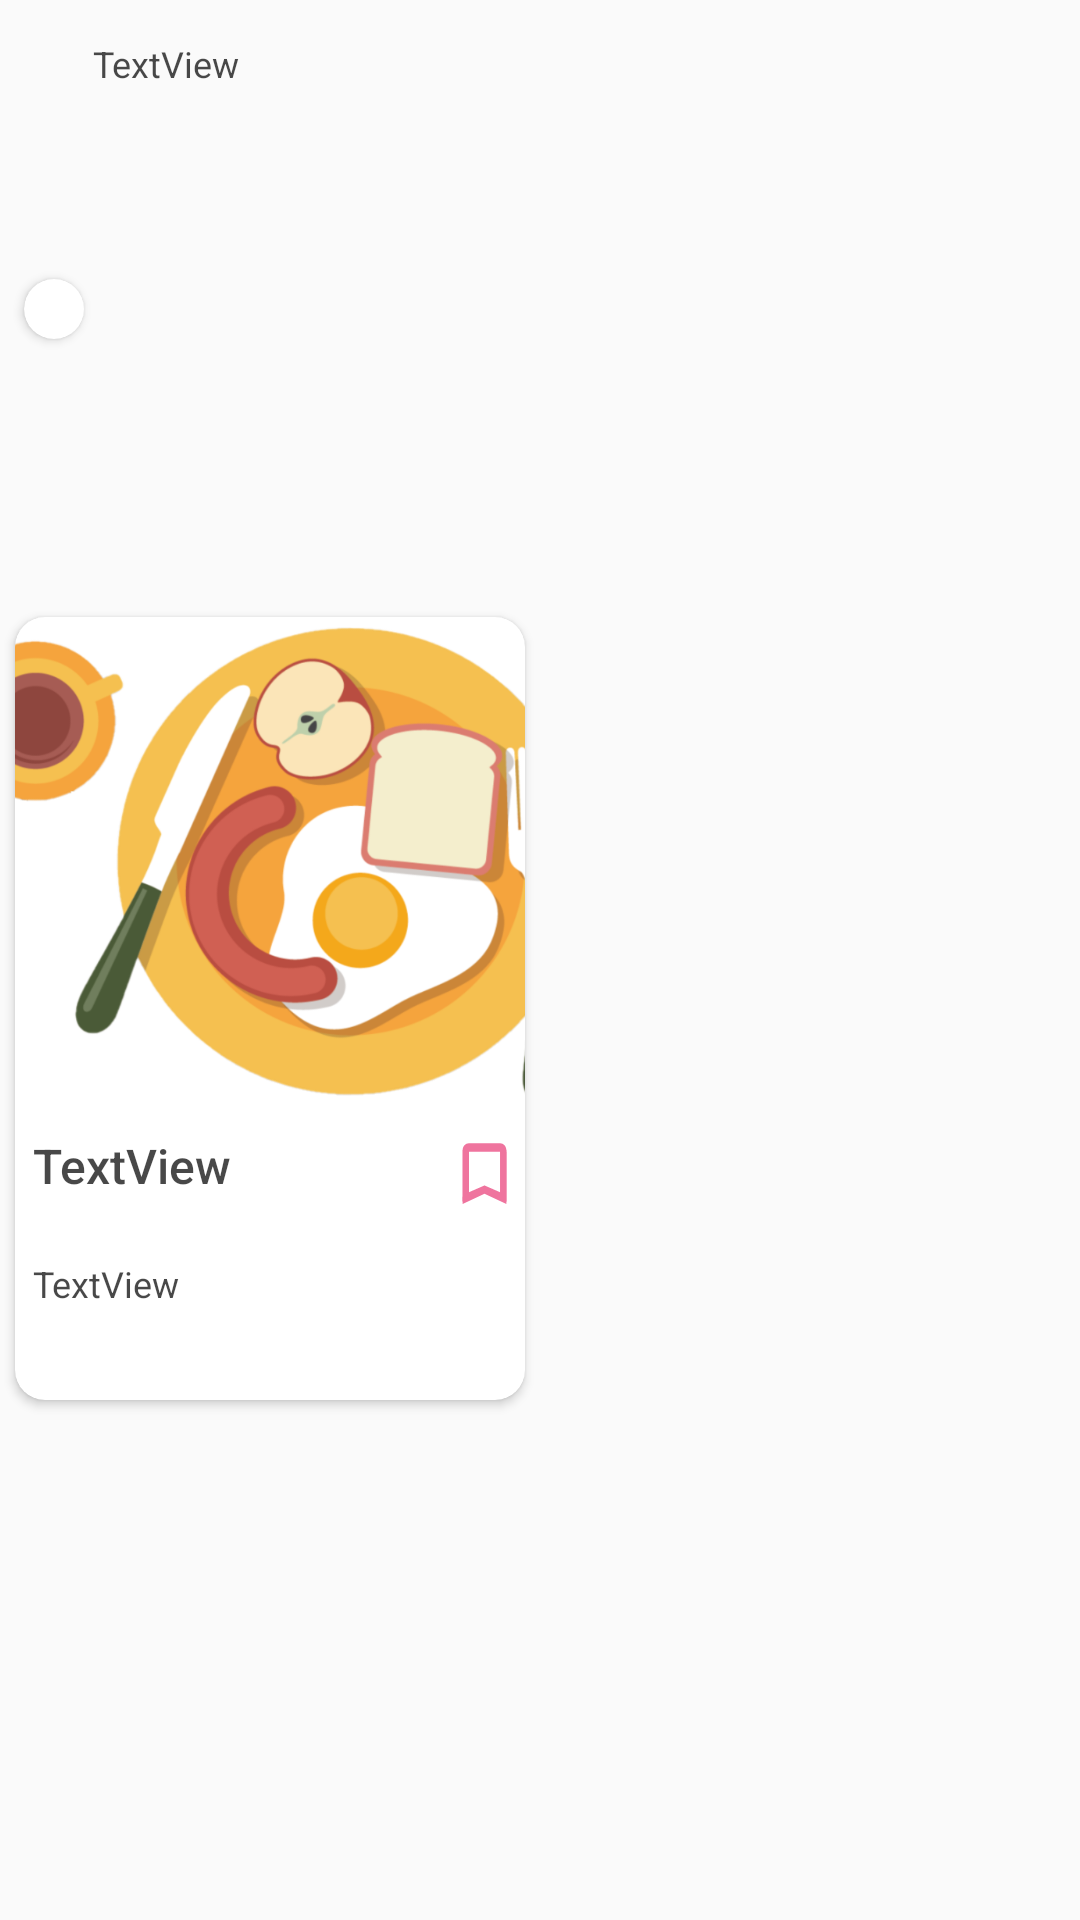

Icons on this 1080w x 1920h Android screen, each with the point to tap as [x,y]:
favorite off: [484,1173]
